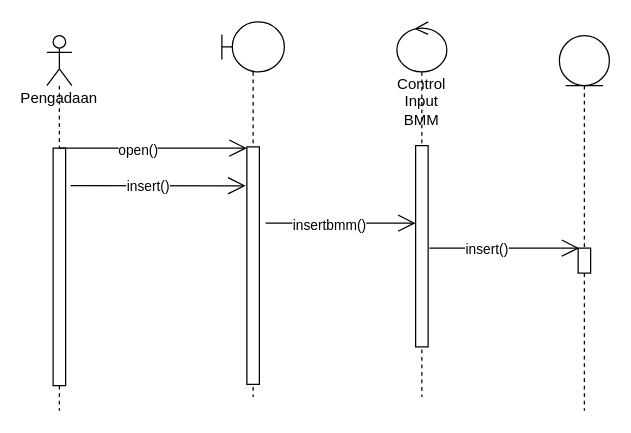
Some shapes in this 631 by 433 pixel diagram are drawn without their labels. Here are the shapes that lost their labels. From the top down, the box of each, then its label:
(221, 21, 284, 397): Halaman Input BMM
(558, 34, 609, 411): List BMM
